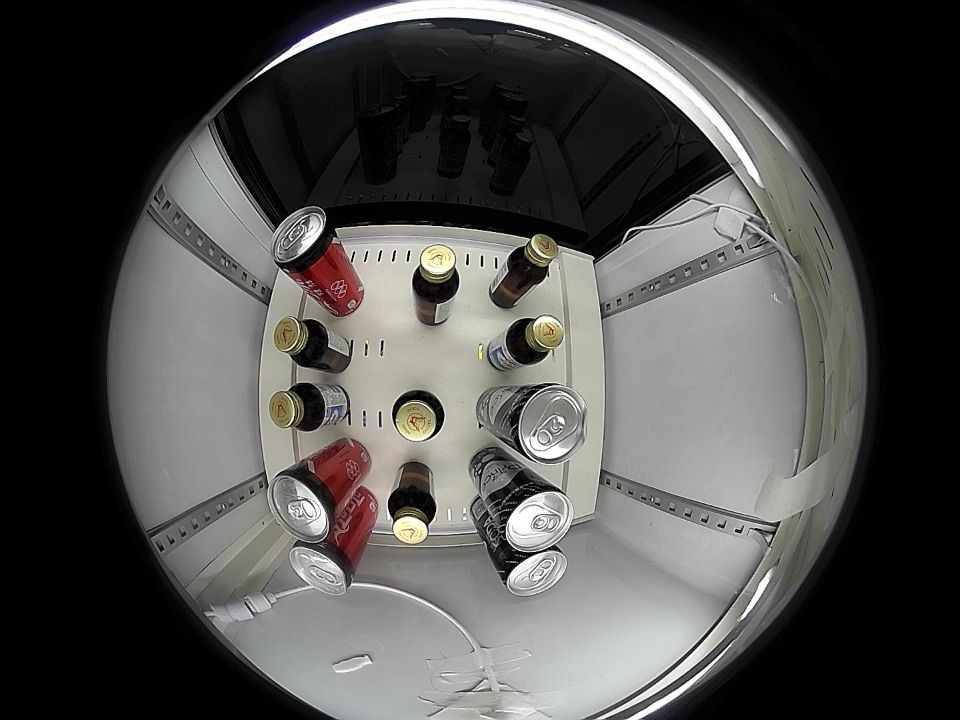libaojian: (504, 314, 565, 365), (391, 389, 446, 443), (506, 234, 559, 288), (411, 245, 461, 302), (270, 382, 327, 432), (388, 489, 438, 545), (274, 317, 329, 367)
lingdukele: (267, 465, 343, 543), (271, 207, 340, 275), (289, 538, 358, 596)
qingdaowangzi-1: (504, 383, 589, 464), (492, 477, 574, 553), (496, 544, 568, 596)
